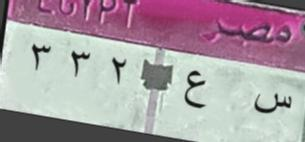2: (109, 54, 130, 86)
3: (67, 46, 92, 82), (30, 41, 53, 75)
ain: (180, 64, 208, 112)
seen: (250, 85, 295, 120)
